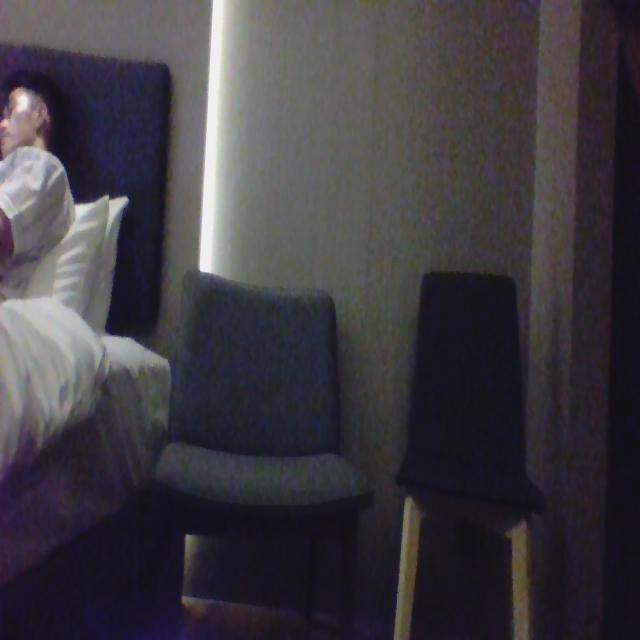empty: (174, 269, 352, 486), (413, 237, 534, 521)
